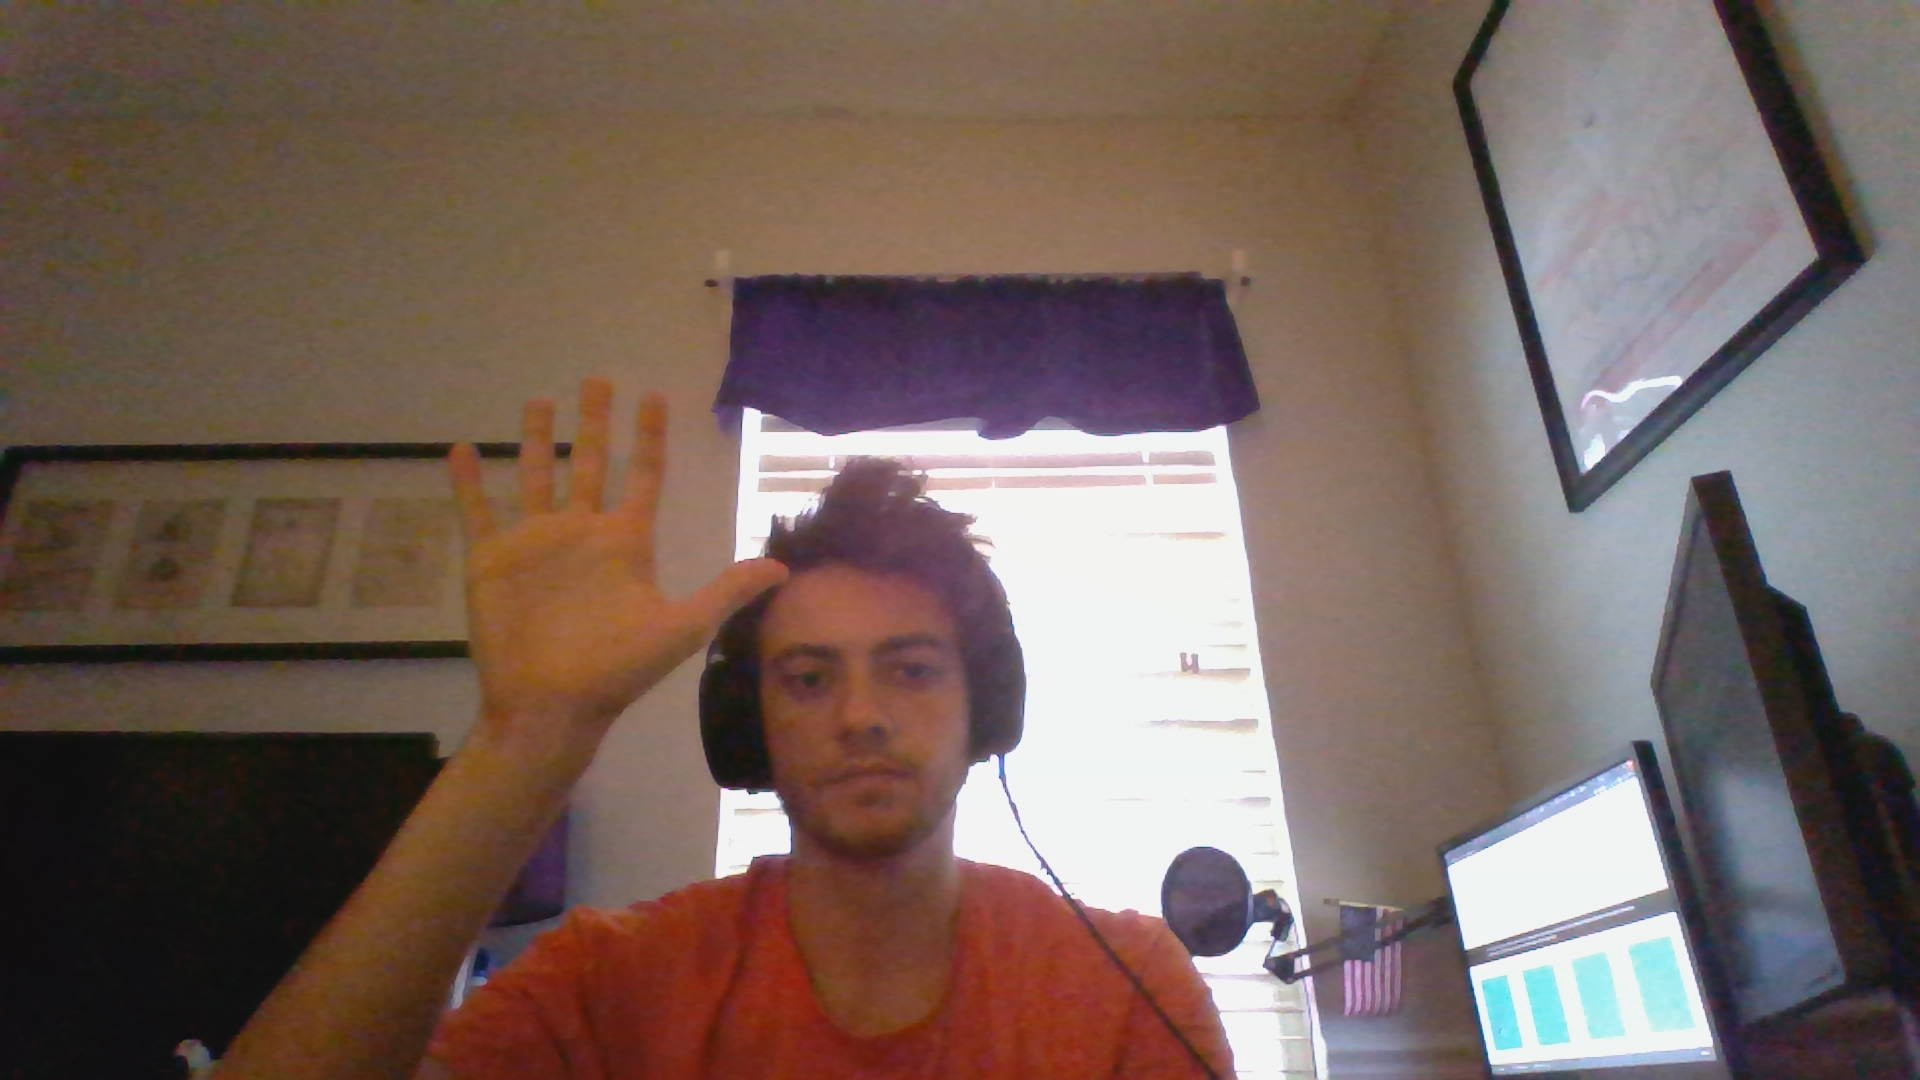Right Palm Up: (439, 369, 799, 756)
